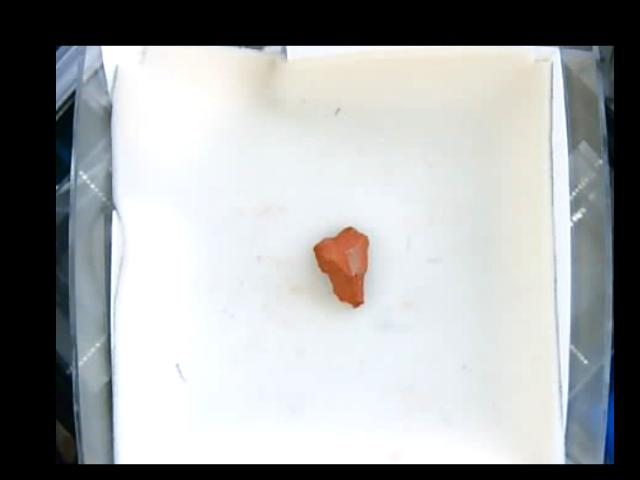Brisk: (309, 225, 369, 308)
